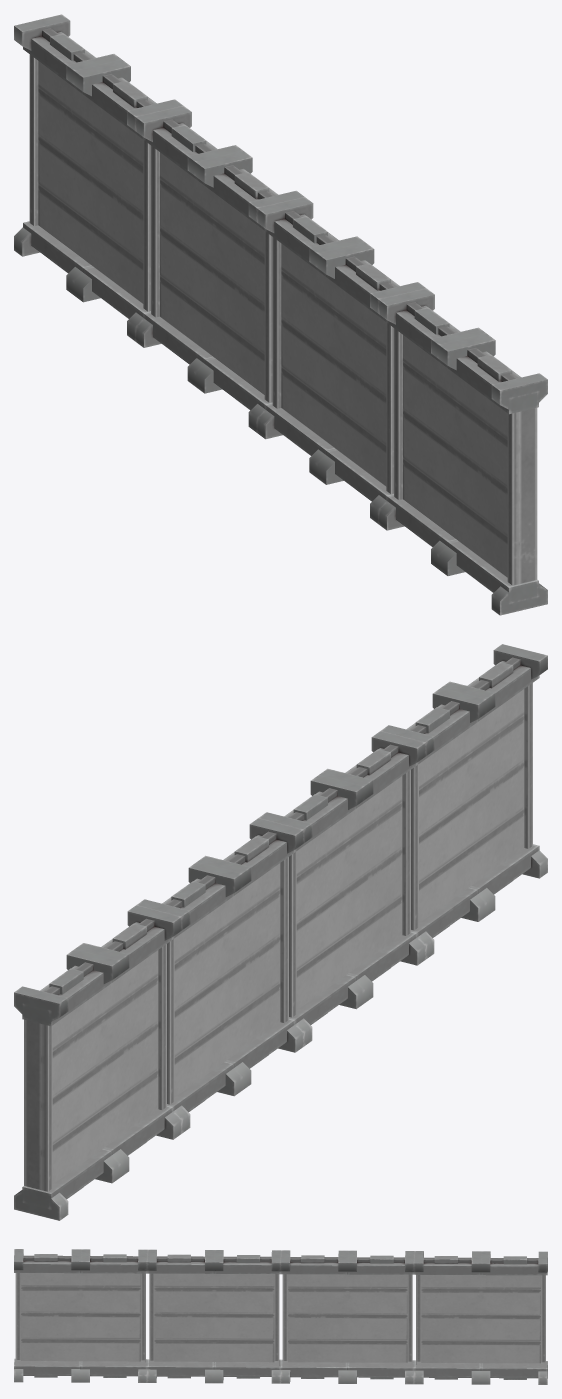
Rendered from Pfb_JALB_WallPart2_Line__34.fbx.
The picture shows the model from 3 angles, top to bottom: view 1: azimuth 30°, elevation 25°; view 2: azimuth 150°, elevation 25°; view 3: azimuth 270°, elevation 25°; orthographic projection. The views are drawn at different scales.
Parts seen in each view (by area): view 1: MAT_Roof; view 2: MAT_Roof; view 3: MAT_Roof.
Part boxes in pixels (bbox=[...]): MAT_Roof: bbox=[14, 14, 547, 615]; MAT_Roof: bbox=[14, 644, 547, 1220]; MAT_Roof: bbox=[14, 1249, 547, 1384].
Bounding box in the file's own units: 1.07 × 4 × 16.01.
1 material, 1 textured.
